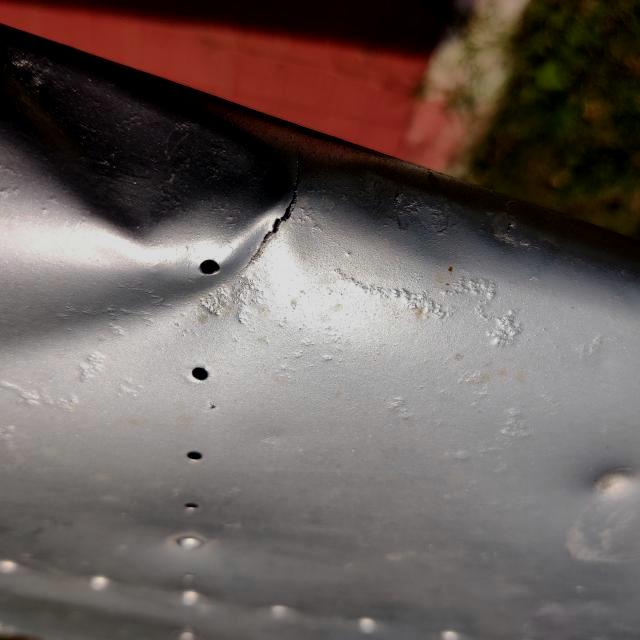crack: (222, 115, 320, 290)
dent: (0, 19, 314, 393), (563, 439, 640, 520)
